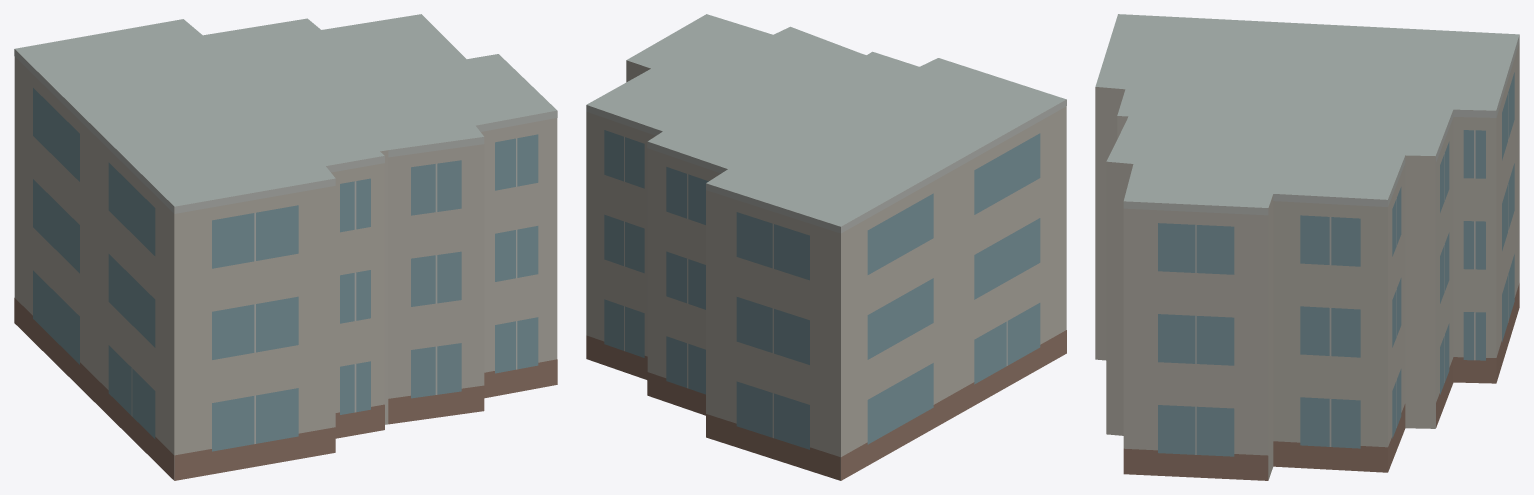
Rendered from survey-upis-32682302.glb.
3 views of the same model, side by side, from view 1: azimuth 30°, elevation 25°; view 2: azimuth 150°, elevation 25°; view 3: azimuth 270°, elevation 25° (orthographic). The views are drawn at different scales.
Parts seen in each view (by area): view 1: survey-upis-32682302.tmp; view 2: survey-upis-32682302.tmp; view 3: survey-upis-32682302.tmp.
Boxes of the visible parts, x1,y1,x2,y2 form: survey-upis-32682302.tmp: [14, 14, 557, 480]; survey-upis-32682302.tmp: [586, 14, 1066, 480]; survey-upis-32682302.tmp: [1095, 14, 1519, 480].
Size of the model in its own units: 13.97 by 9.15 by 12.91.
